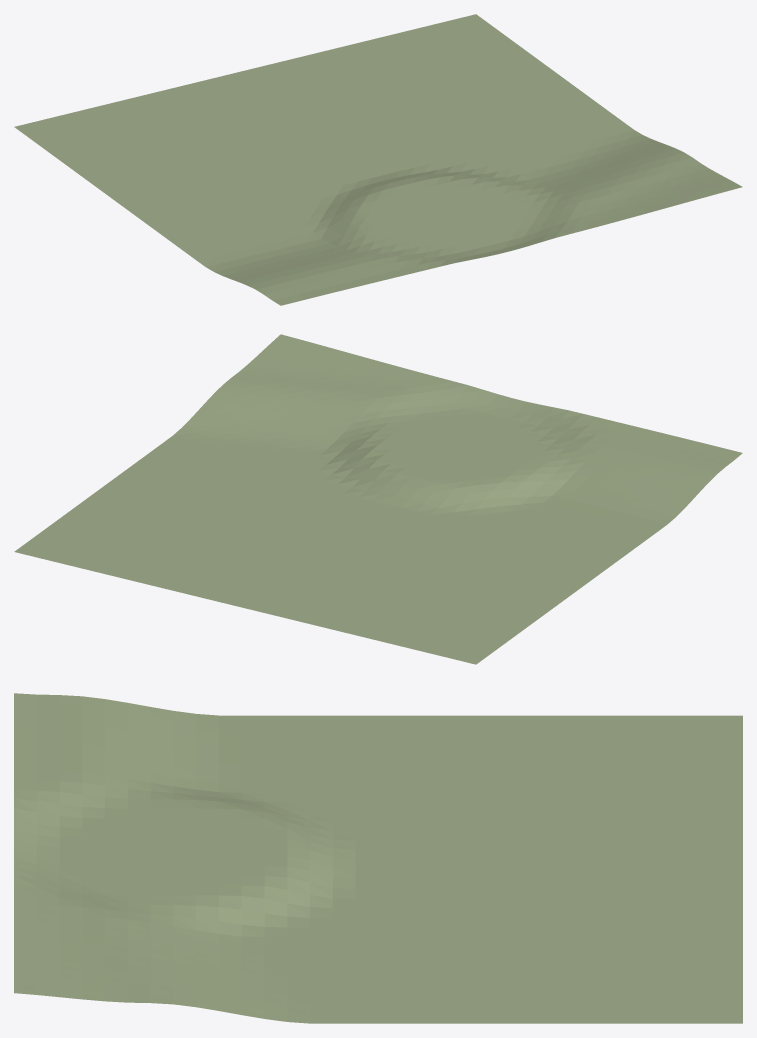
Rendered from coast-1-0.glb.
The picture shows the model from 3 angles, top to bottom: view 1: azimuth 30°, elevation 25°; view 2: azimuth 150°, elevation 25°; view 3: azimuth 270°, elevation 25°; orthographic projection. The views are drawn at different scales.
Visible parts, largest first — view 1: coast-1-0; view 2: coast-1-0; view 3: coast-1-0.
Boxes of the visible parts, box(x1,y1,x2,y2) form: coast-1-0: box(14, 14, 742, 305); coast-1-0: box(14, 334, 742, 664); coast-1-0: box(14, 693, 742, 1023).
Bounding box in the file's own units: 128 × 5.92 × 128.
